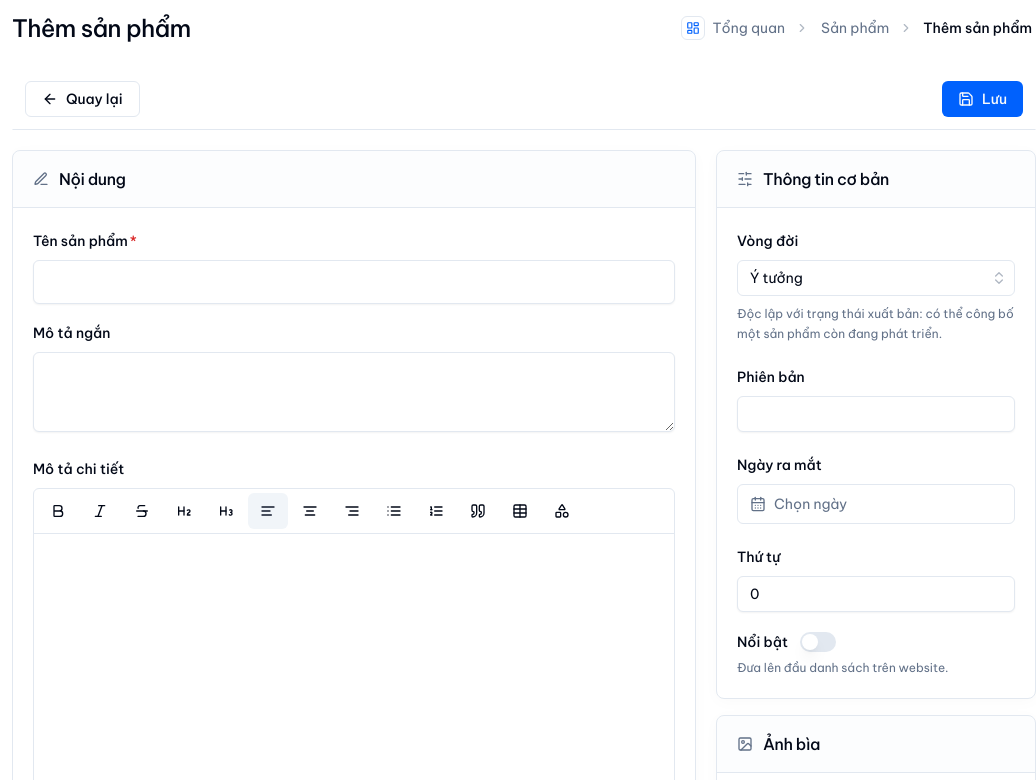
ProductEditor › requires a name
Click the button "Lưu" at x=982, y=99, box top-left (942, 81), bottom-right (1023, 117)
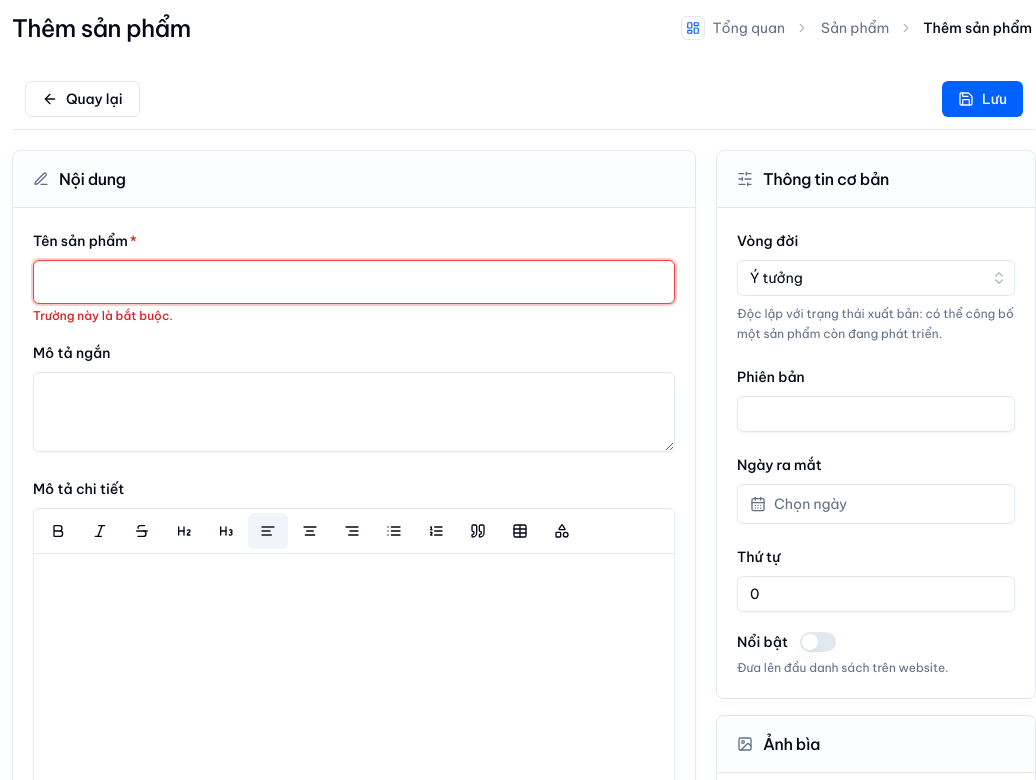
Check: the text "Trường này là bắt buộc." is shown, box top-left (33, 308), bottom-right (173, 323)
